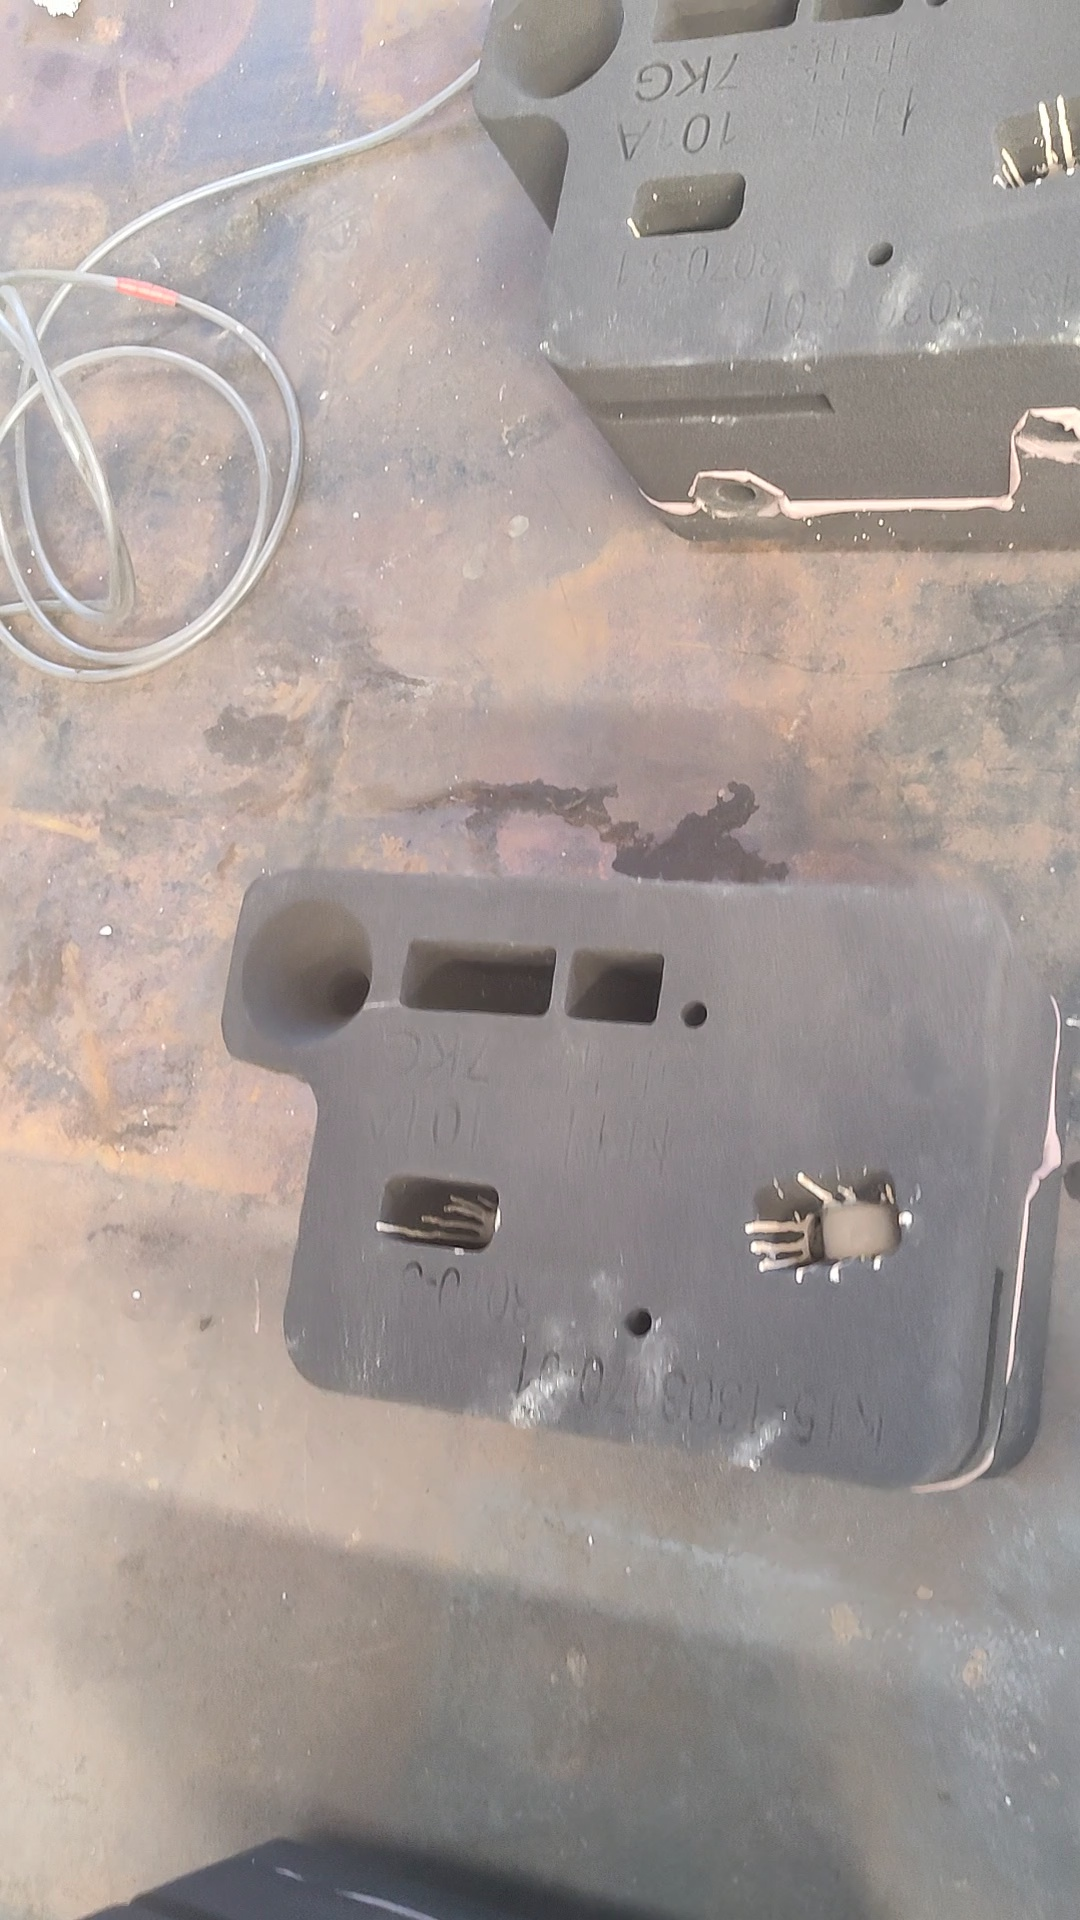pouring hole: (239, 895, 375, 1044), (488, 1, 624, 99)
